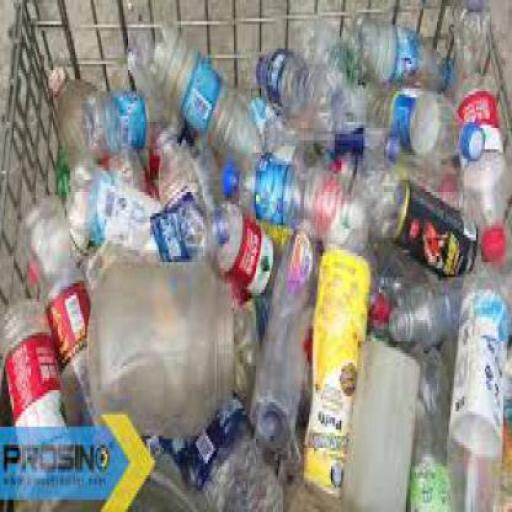plastic: (84, 259, 256, 433), (301, 195, 369, 503), (126, 15, 263, 162), (17, 195, 97, 424), (336, 150, 476, 278), (248, 223, 312, 454), (449, 268, 510, 509), (452, 6, 510, 259), (340, 335, 423, 509), (324, 112, 458, 208), (366, 241, 462, 350), (402, 341, 464, 509), (387, 268, 510, 348), (218, 146, 336, 226), (360, 85, 483, 159), (342, 8, 452, 88), (65, 161, 157, 254), (0, 296, 62, 424), (252, 46, 331, 146), (80, 82, 181, 159), (159, 396, 246, 479), (298, 18, 362, 128), (123, 192, 229, 256), (157, 134, 222, 238), (44, 61, 106, 164), (471, 348, 510, 509), (208, 192, 272, 287), (128, 430, 203, 510), (246, 92, 314, 162), (199, 457, 283, 509), (233, 293, 258, 399), (280, 463, 314, 509), (478, 223, 504, 262), (459, 120, 483, 162), (50, 159, 72, 198), (46, 61, 65, 92), (218, 155, 236, 186)
